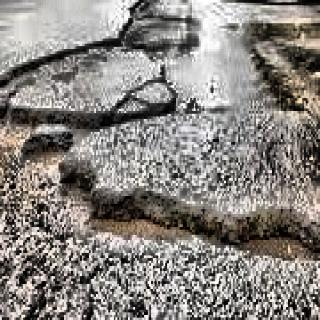crack: (17, 131, 320, 254), (0, 0, 158, 88), (0, 79, 180, 141)
